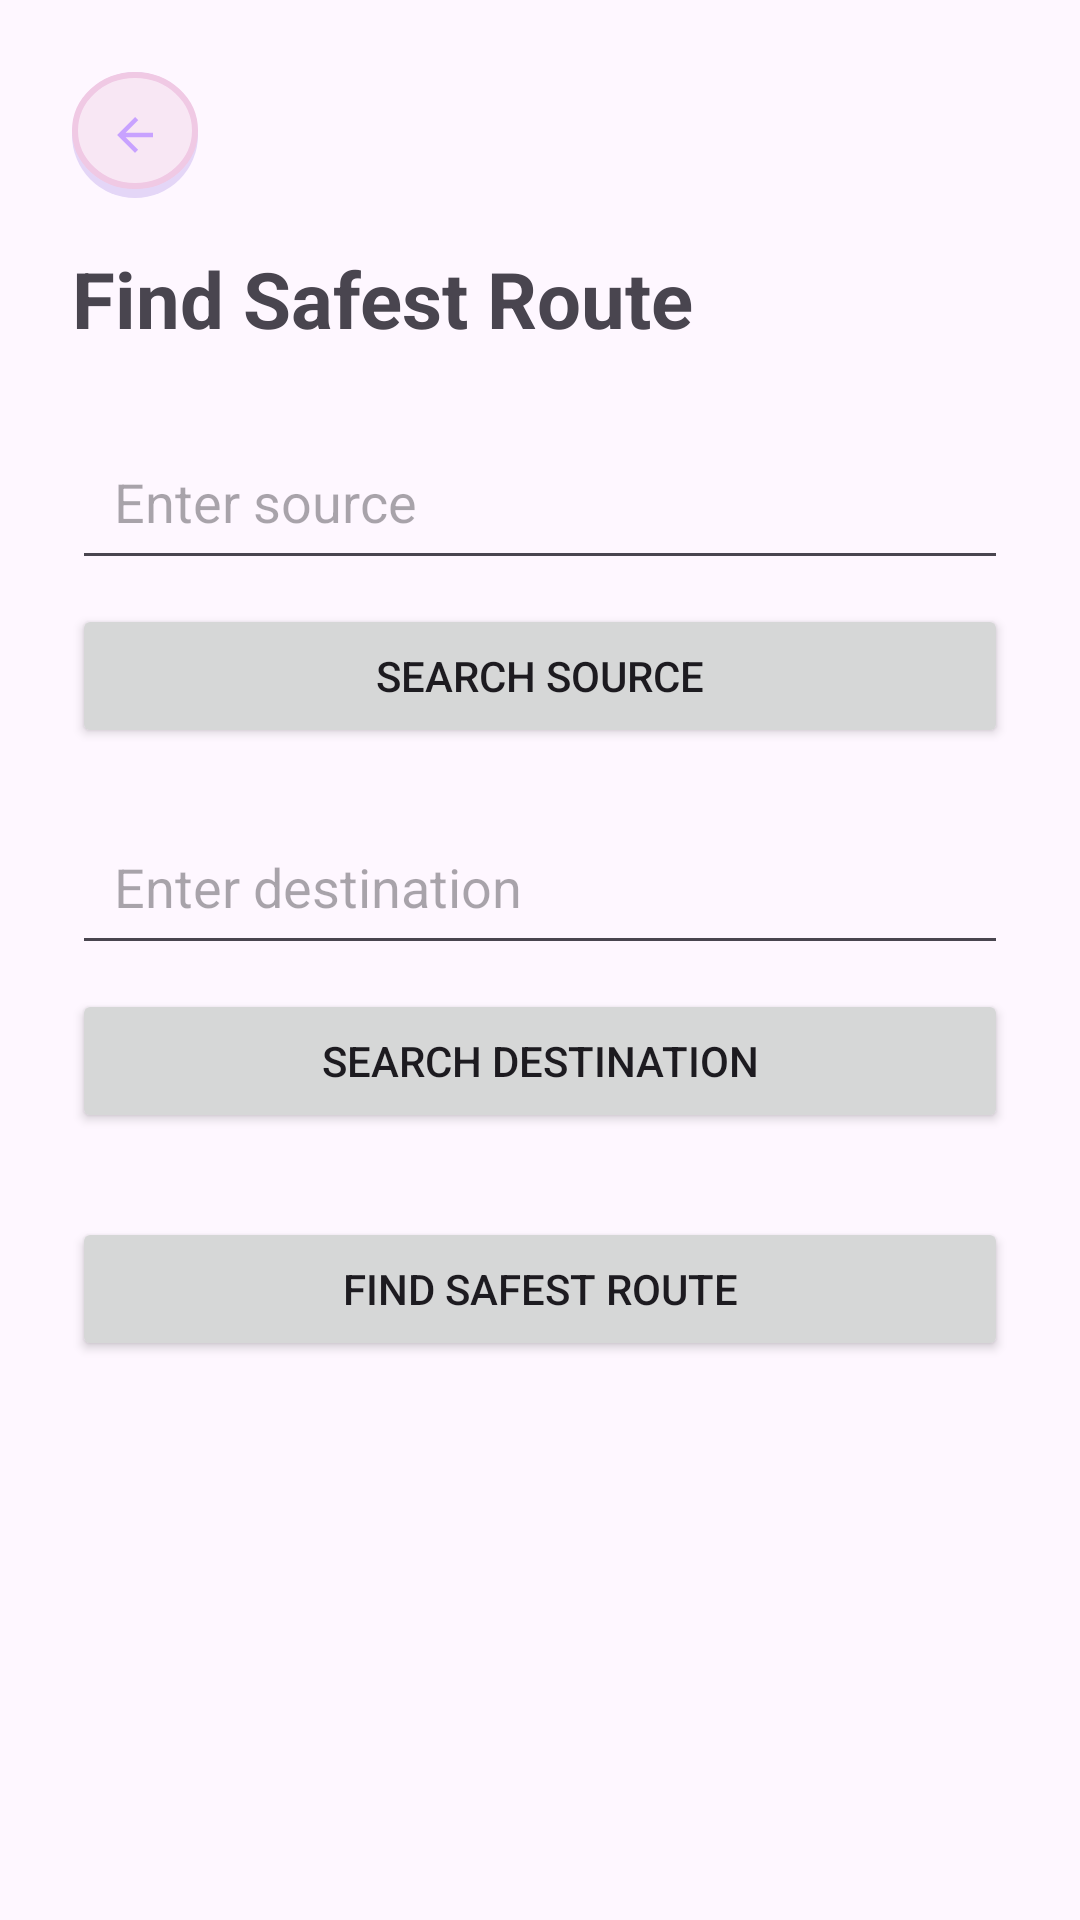

Icon bounding boxes for this 1080w x 1920h phone screenshot, format (x1, y1, x2, y2):
arrow back: (117, 117, 153, 153)
